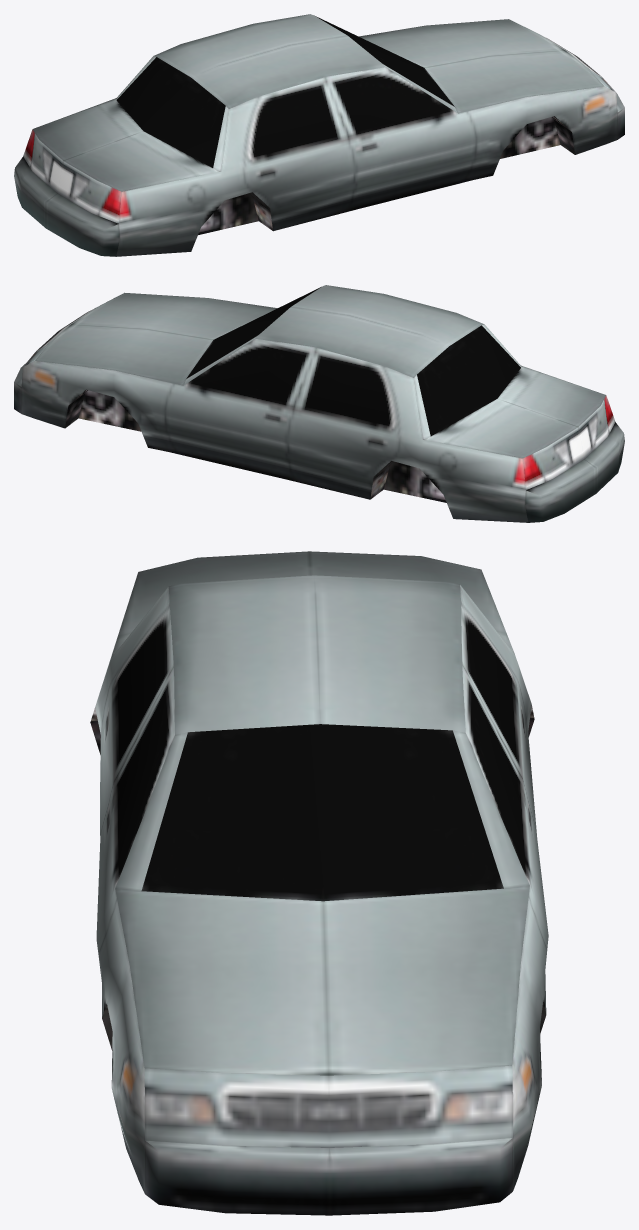
The model's file is police_body.obj.
3 views of the same model, one above another, from view 1: azimuth 30°, elevation 25°; view 2: azimuth 150°, elevation 25°; view 3: azimuth 270°, elevation 25° (orthographic). The views are drawn at different scales.
Visible parts, largest first — view 1: copCar_LOD0.001_Plano.008; view 2: copCar_LOD0.001_Plano.008; view 3: copCar_LOD0.001_Plano.008.
Boxes of the visible parts, left/top/right/bottom form: copCar_LOD0.001_Plano.008: left=14, top=14, right=624, bottom=256; copCar_LOD0.001_Plano.008: left=14, top=285, right=624, bottom=522; copCar_LOD0.001_Plano.008: left=90, top=551, right=548, bottom=1215.
Bounding box in the file's own units: 3.68 × 0.8414 × 1.33.
1 material, 1 textured.
